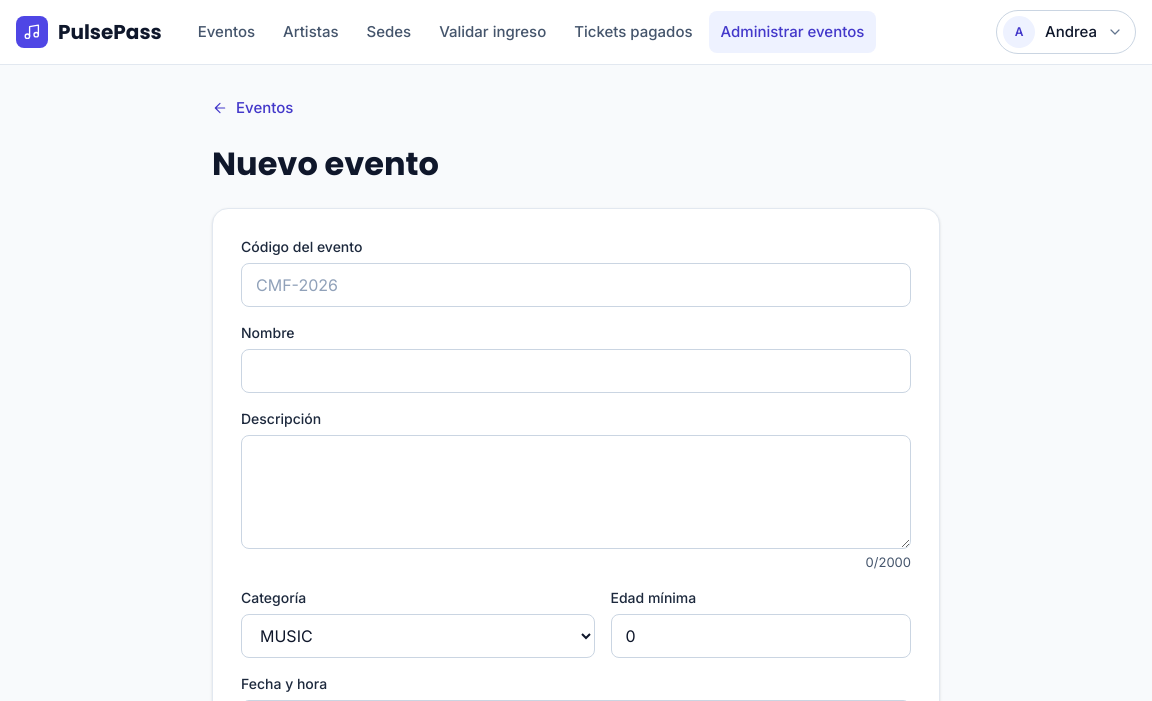
Test: Administración de eventos (ADMIN) › TEST-FE-ADM-001: crear un evento válido → 201, queda en DRAFT y abre su gestión
Type "jzz-2026" into the field labelled "Código del evento".
click(576, 284); type("jzz-2026")  # box [241,262,911,306]
Type "Jazz al Parque" into the field labelled "Nombre".
click(576, 370); type("Jazz al Parque")  # box [241,348,911,392]
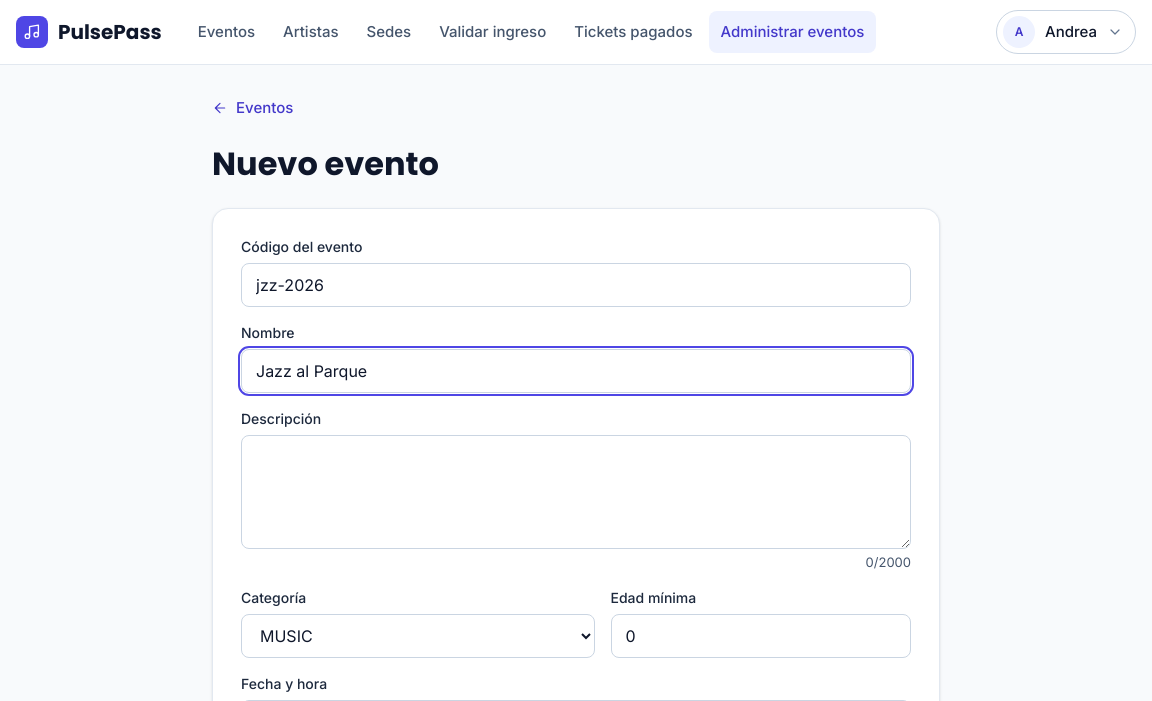
Select "CULTURE" in the dropdown labelled "Categoría" at (418, 636), box [241,614,594,658]
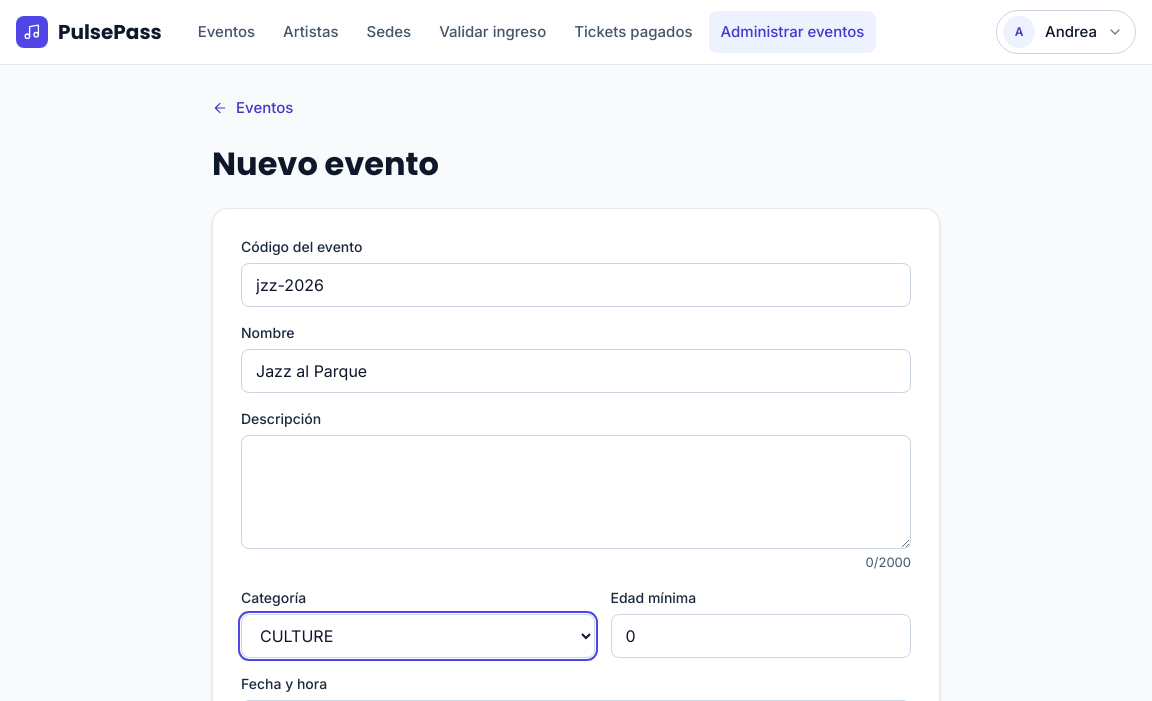
Replace the text in the number field labelled "Edad mínima" with "18" at (761, 636), box [610,614,911,658]
(page scrolled)
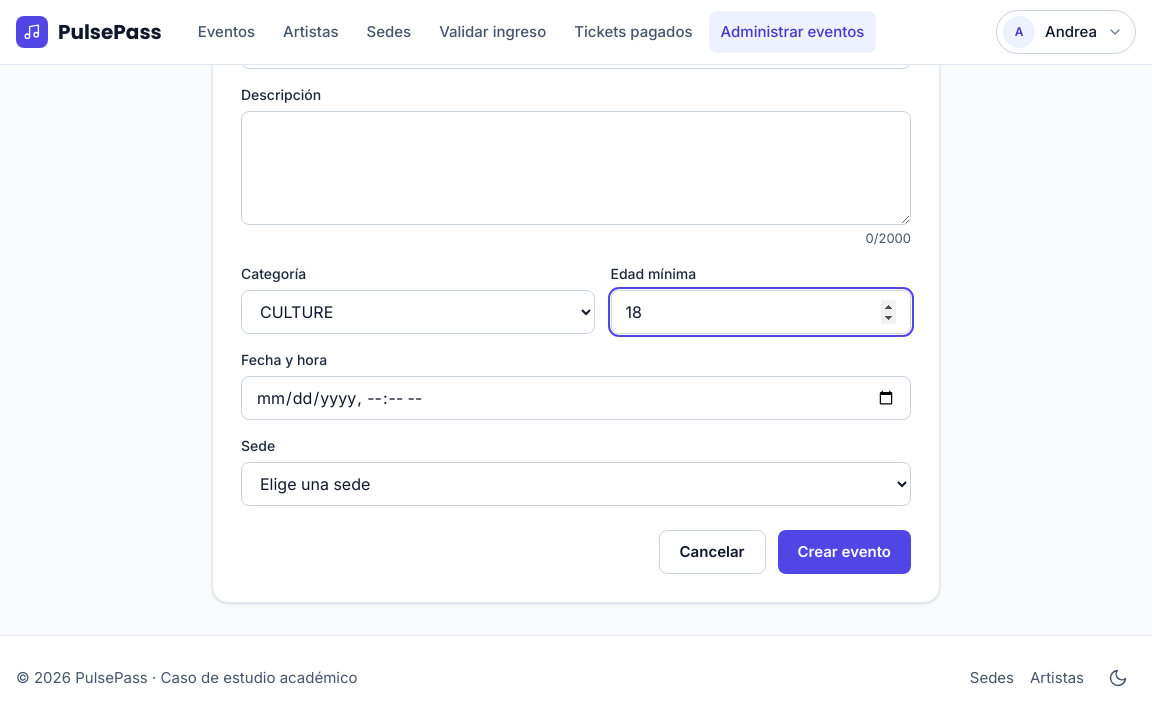
Type "2026-12-20T20:00" into the field labelled "Fecha y hora".
click(576, 398); type("2026-12-20T20:00")  # box [241,376,911,420]
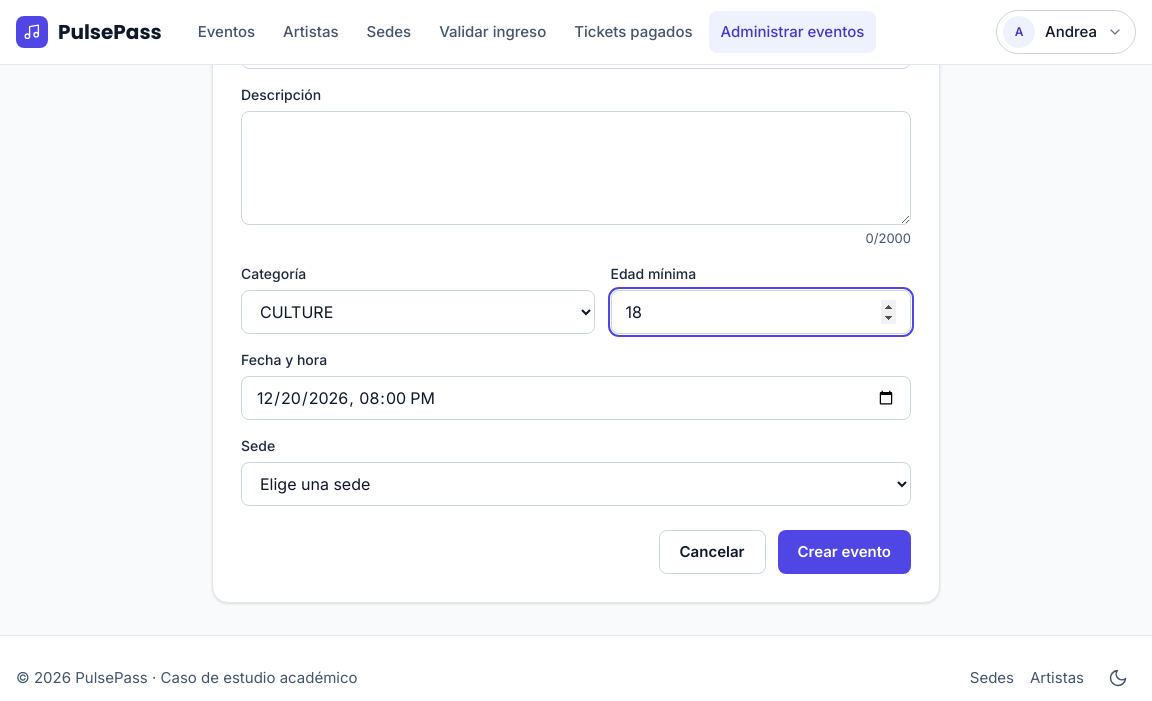
Select "Marina Convention Center (VEN-SMR-01)" in the dropdown labelled "Sede" at (576, 484), box [241,462,911,506]
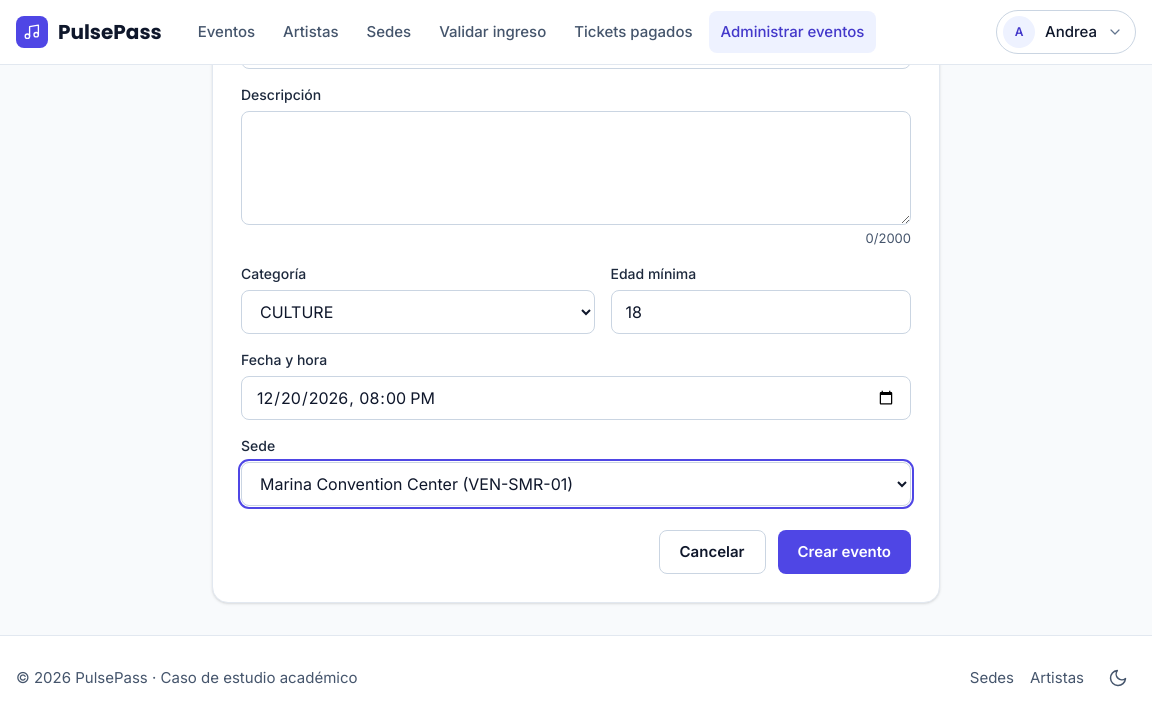
Click the button "Crear evento".
click(844, 552)  # box [778,530,911,574]
(page scrolled)
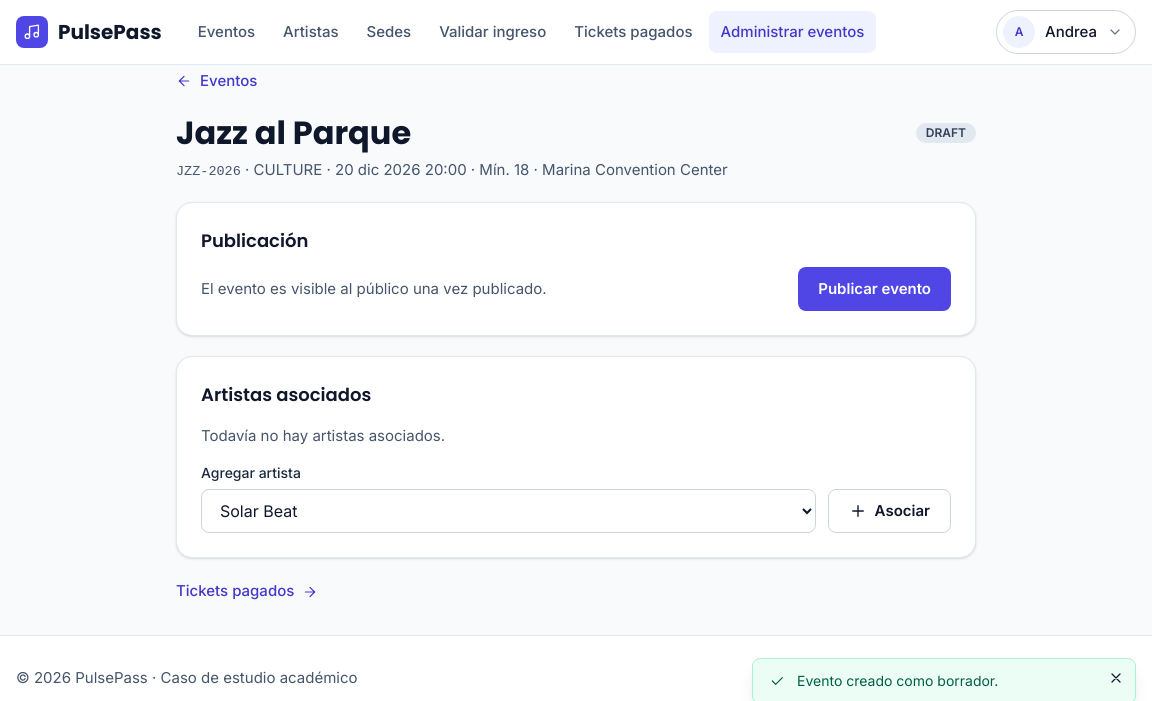
Check: the heading "Jazz al Parque" is shown, box [176,112,411,152]
Check: the text "DRAFT" is shown, box [916,122,976,142]
